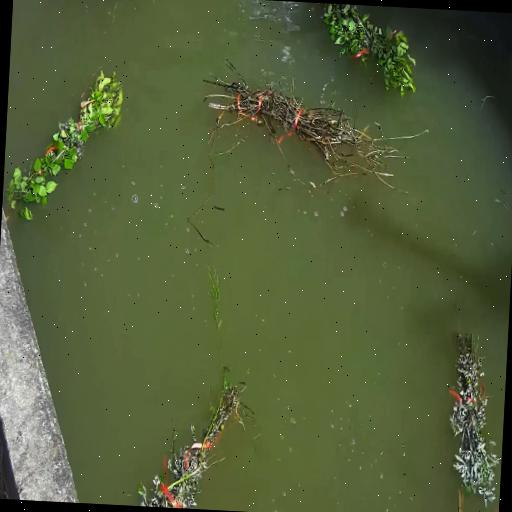twig: (205, 78, 428, 186), (7, 70, 123, 209), (139, 363, 243, 508), (449, 333, 499, 506), (323, 3, 416, 96), (210, 271, 220, 323)
